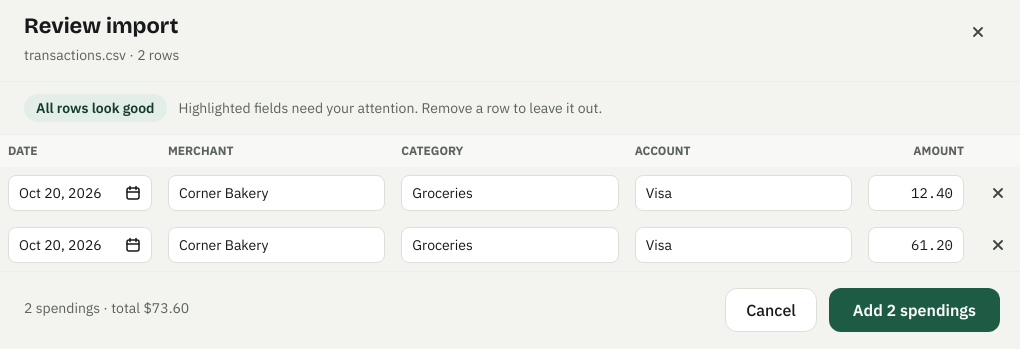
Scenario: ReviewStage with valid rows › keeps the rows and shows the message when adding fails
The image size is (1020, 349).
Click the button "Add 2 spendings" at (914, 310), box left=829, top=288, right=1000, bottom=332
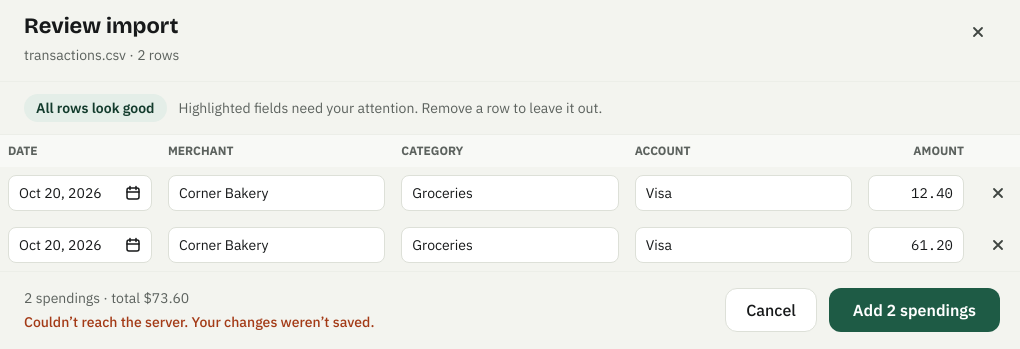
Check: the text "transactions.csv · 2 rows" is shown, box left=24, top=45, right=179, bottom=65
Check: the text "Couldn’t reach the server. Your changes weren’t saved." is shown, box left=24, top=312, right=374, bottom=332
